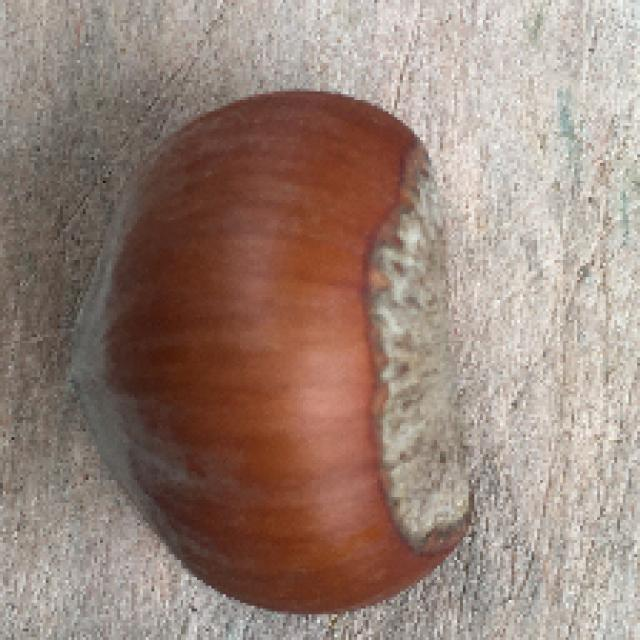qualityHazelnut: (66, 88, 485, 612)
